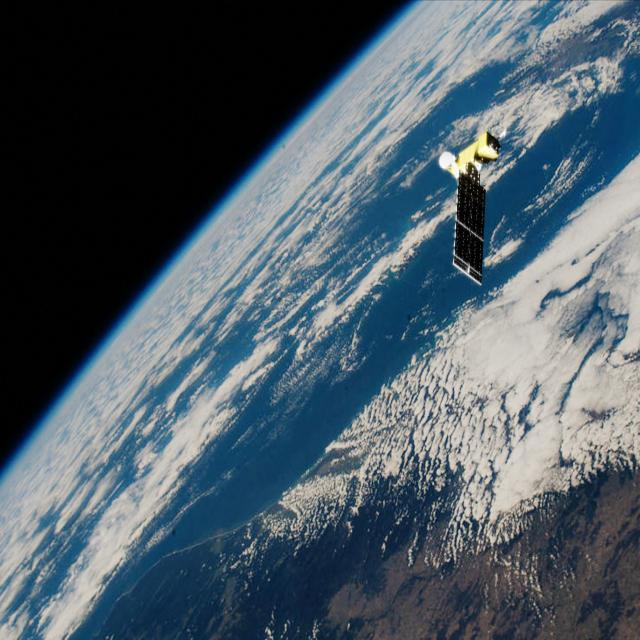satellite: (435, 109, 507, 295)
